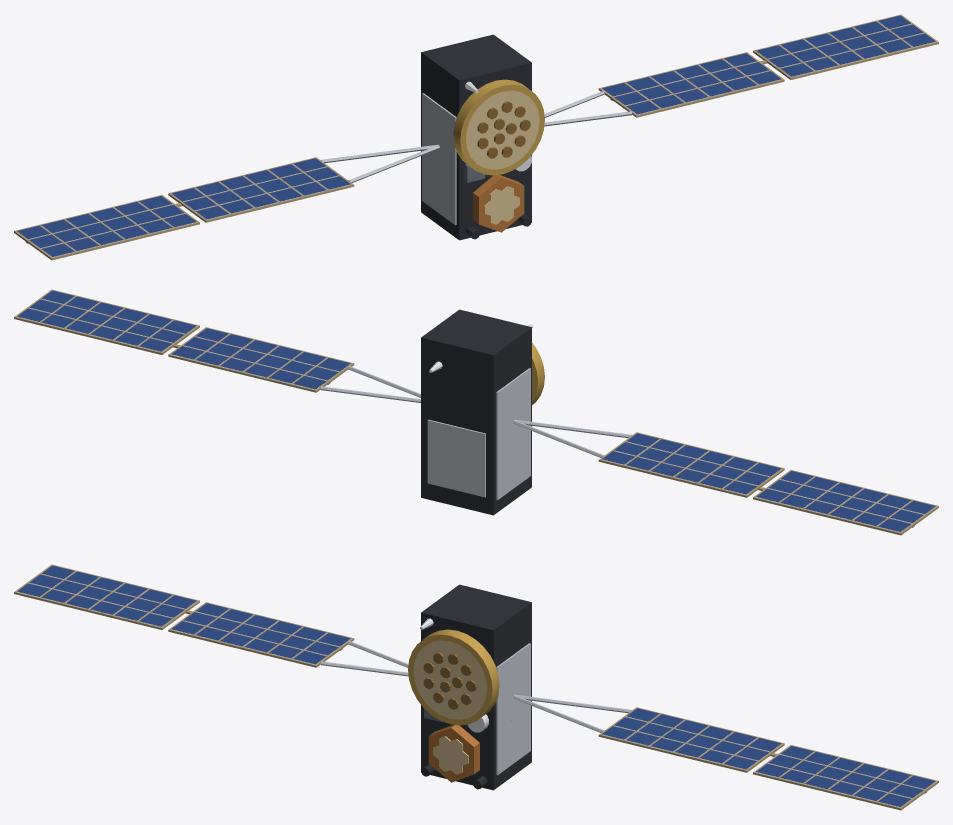
The model's file is galileo-foc.glb.
3 renders of one model, top to bottom at view 1: azimuth 30°, elevation 25°; view 2: azimuth 150°, elevation 25°; view 3: azimuth 330°, elevation 25°, orthographic.
Visible parts, largest first — view 1: body, solar-panel, foil; view 2: body, solar-panel, foil; view 3: body, solar-panel, foil.
Boxes of the visible parts, bbox=[...] form: body: bbox=[14, 14, 938, 260]; solar-panel: bbox=[17, 15, 935, 256]; foil: bbox=[453, 79, 544, 232]; body: bbox=[14, 289, 938, 535]; solar-panel: bbox=[17, 290, 935, 531]; foil: bbox=[532, 343, 544, 404]; body: bbox=[14, 564, 938, 810]; solar-panel: bbox=[17, 565, 935, 806]; foil: bbox=[408, 629, 499, 782].
Size of the model in its own units: 14.67 by 2.56 by 1.6.
